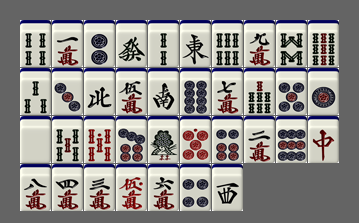0m: (116, 164, 147, 211)
0p: (180, 116, 211, 163)
0s: (84, 116, 115, 163)
1m: (52, 20, 83, 67)
1p: (308, 68, 339, 115)
1s: (148, 116, 179, 163)
1z: (180, 20, 211, 67)
2m: (244, 116, 275, 163)
2p: (84, 20, 115, 67)
2s: (148, 20, 179, 67)
2z: (148, 68, 179, 115)
3m: (84, 164, 115, 211)
3p: (52, 68, 83, 115)
3s: (20, 68, 51, 115)
3z: (212, 164, 243, 211)
4m: (52, 164, 83, 211)
4p: (180, 164, 211, 211)
4s: (20, 20, 51, 67)
4z: (84, 68, 115, 115)
5m: (116, 68, 147, 115)
5p: (276, 68, 307, 115)
5s: (52, 116, 83, 163)
5z: (20, 116, 51, 163)
6m: (148, 164, 179, 211)
6p: (212, 116, 243, 163)
6s: (212, 20, 243, 67)
6z: (116, 20, 147, 67)
7m: (212, 68, 243, 115)
7p: (116, 116, 147, 163)
7s: (244, 68, 275, 115)
7z: (308, 116, 339, 163)
8m: (20, 164, 51, 211)
8p: (180, 68, 211, 115)
8s: (276, 20, 307, 67)
9m: (244, 20, 275, 67)
9p: (276, 116, 307, 163)
9s: (308, 20, 339, 67)
